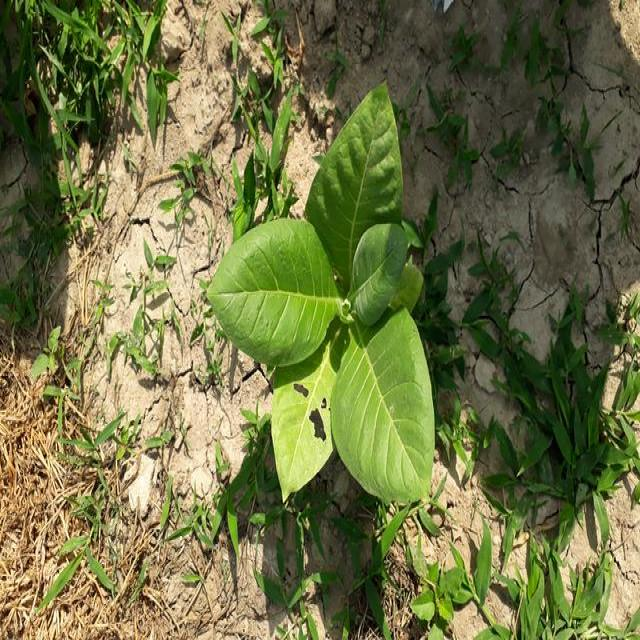crop: (204, 72, 441, 515)
